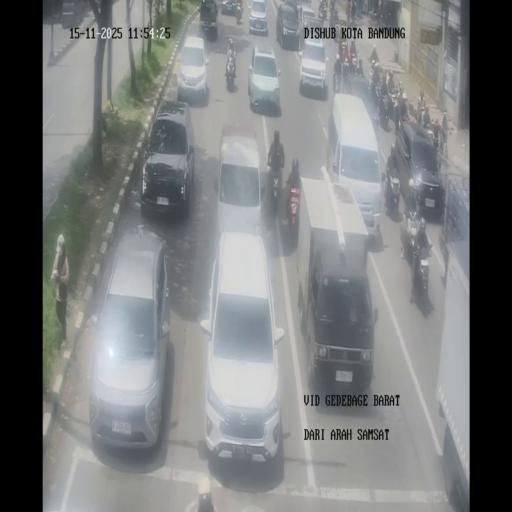car: (199, 230, 283, 468), (88, 227, 172, 455), (214, 123, 264, 250), (141, 99, 194, 218), (392, 121, 442, 220), (248, 45, 282, 114), (176, 34, 209, 104), (298, 37, 328, 98), (276, 1, 301, 49), (199, 0, 219, 38), (248, 0, 268, 35), (298, 3, 319, 36), (221, 0, 236, 14)
motorcycle: (409, 238, 431, 302), (284, 172, 301, 241), (267, 164, 282, 218), (379, 90, 393, 129), (388, 169, 401, 209), (225, 54, 236, 90), (369, 77, 381, 110), (397, 100, 410, 127), (431, 127, 441, 158), (341, 50, 351, 80), (389, 85, 401, 108), (332, 67, 342, 93), (419, 106, 430, 128), (357, 60, 368, 82), (369, 46, 379, 66), (235, 1, 243, 24), (318, 4, 327, 22), (379, 0, 386, 22), (331, 7, 339, 26), (351, 53, 358, 73), (350, 1, 356, 23), (368, 9, 374, 24)
truck: (291, 175, 374, 399), (435, 178, 470, 500), (60, 0, 85, 29)
